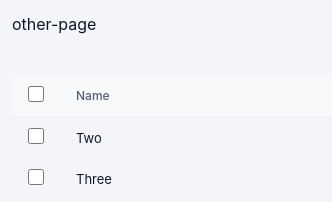
it: ticking rows › the header box ticks every shown row, then clears them, keeping rows from elsewhere
Click the checkbox named "Select all shown".
click(36, 94)  # box [28,86,44,102]
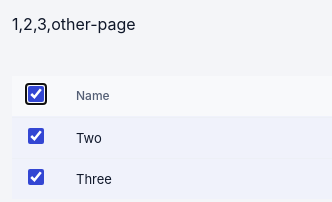
Expected: the text with test id "sel" reads "1,2,3,other-page", [12,14,136,34]
Click the checkbox named "Select all shown".
click(36, 94)  # box [28,86,44,102]
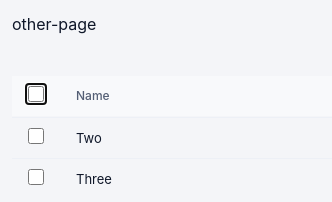
Expected: the text with test id "sel" reads "other-page", [12,14,96,34]
